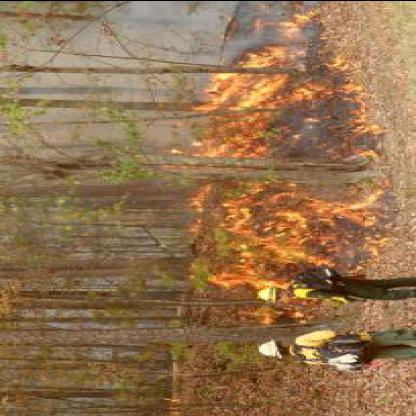Fire: (184, 177, 366, 296), (177, 50, 367, 160)
